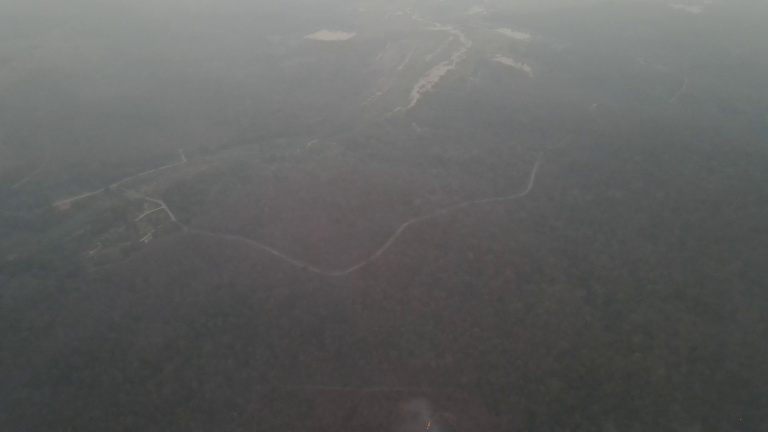fire: (425, 418, 436, 431)
smoke: (393, 388, 467, 432)
